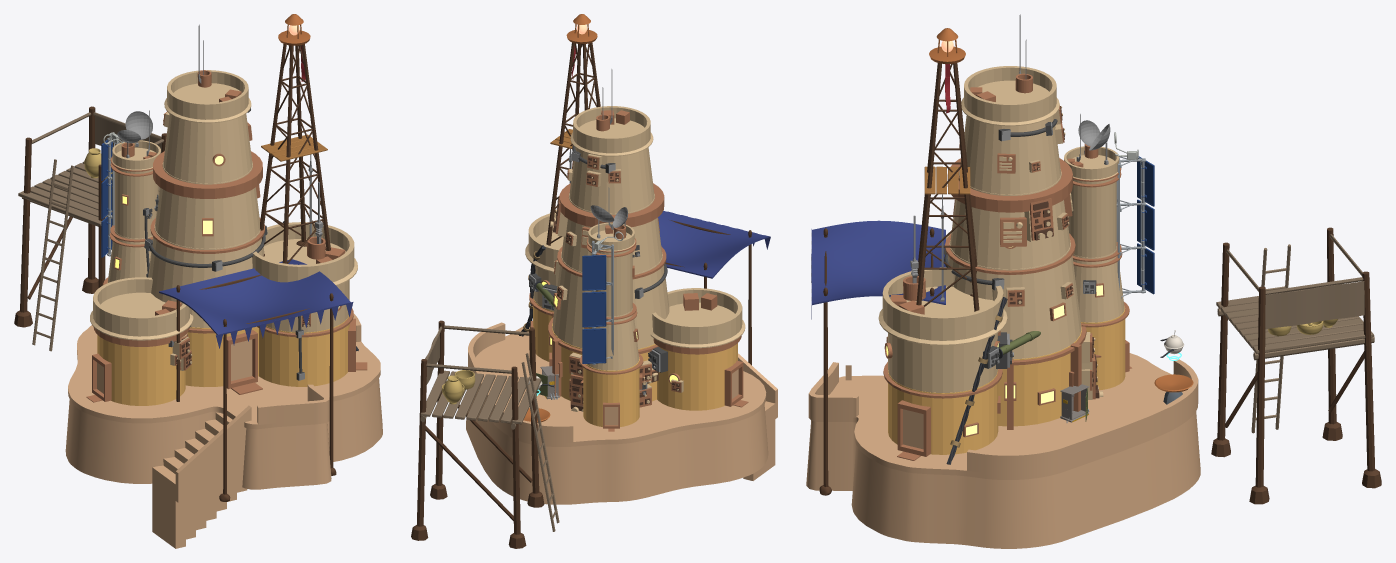
The model's file is nomad_building_b19.fbx.
3 renders of one model, left to right at view 1: azimuth 30°, elevation 25°; view 2: azimuth 150°, elevation 25°; view 3: azimuth 270°, elevation 25°, orthographic. The views are drawn at different scales.
Parts seen in each view (by area): view 1: NomadBuilding_B19; view 2: NomadBuilding_B19; view 3: NomadBuilding_B19.
Boxes of the visible parts, left/top/right/bottom form: NomadBuilding_B19: left=14, top=14, right=382, bottom=548; NomadBuilding_B19: left=411, top=14, right=777, bottom=548; NomadBuilding_B19: left=806, top=14, right=1381, bottom=548.
Size of the model in its own units: 2384 by 3689 by 3642.
